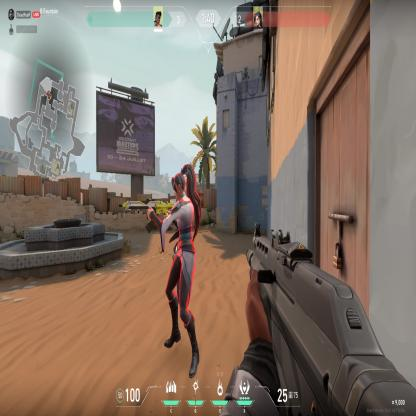enemy: (146, 162, 202, 378)
